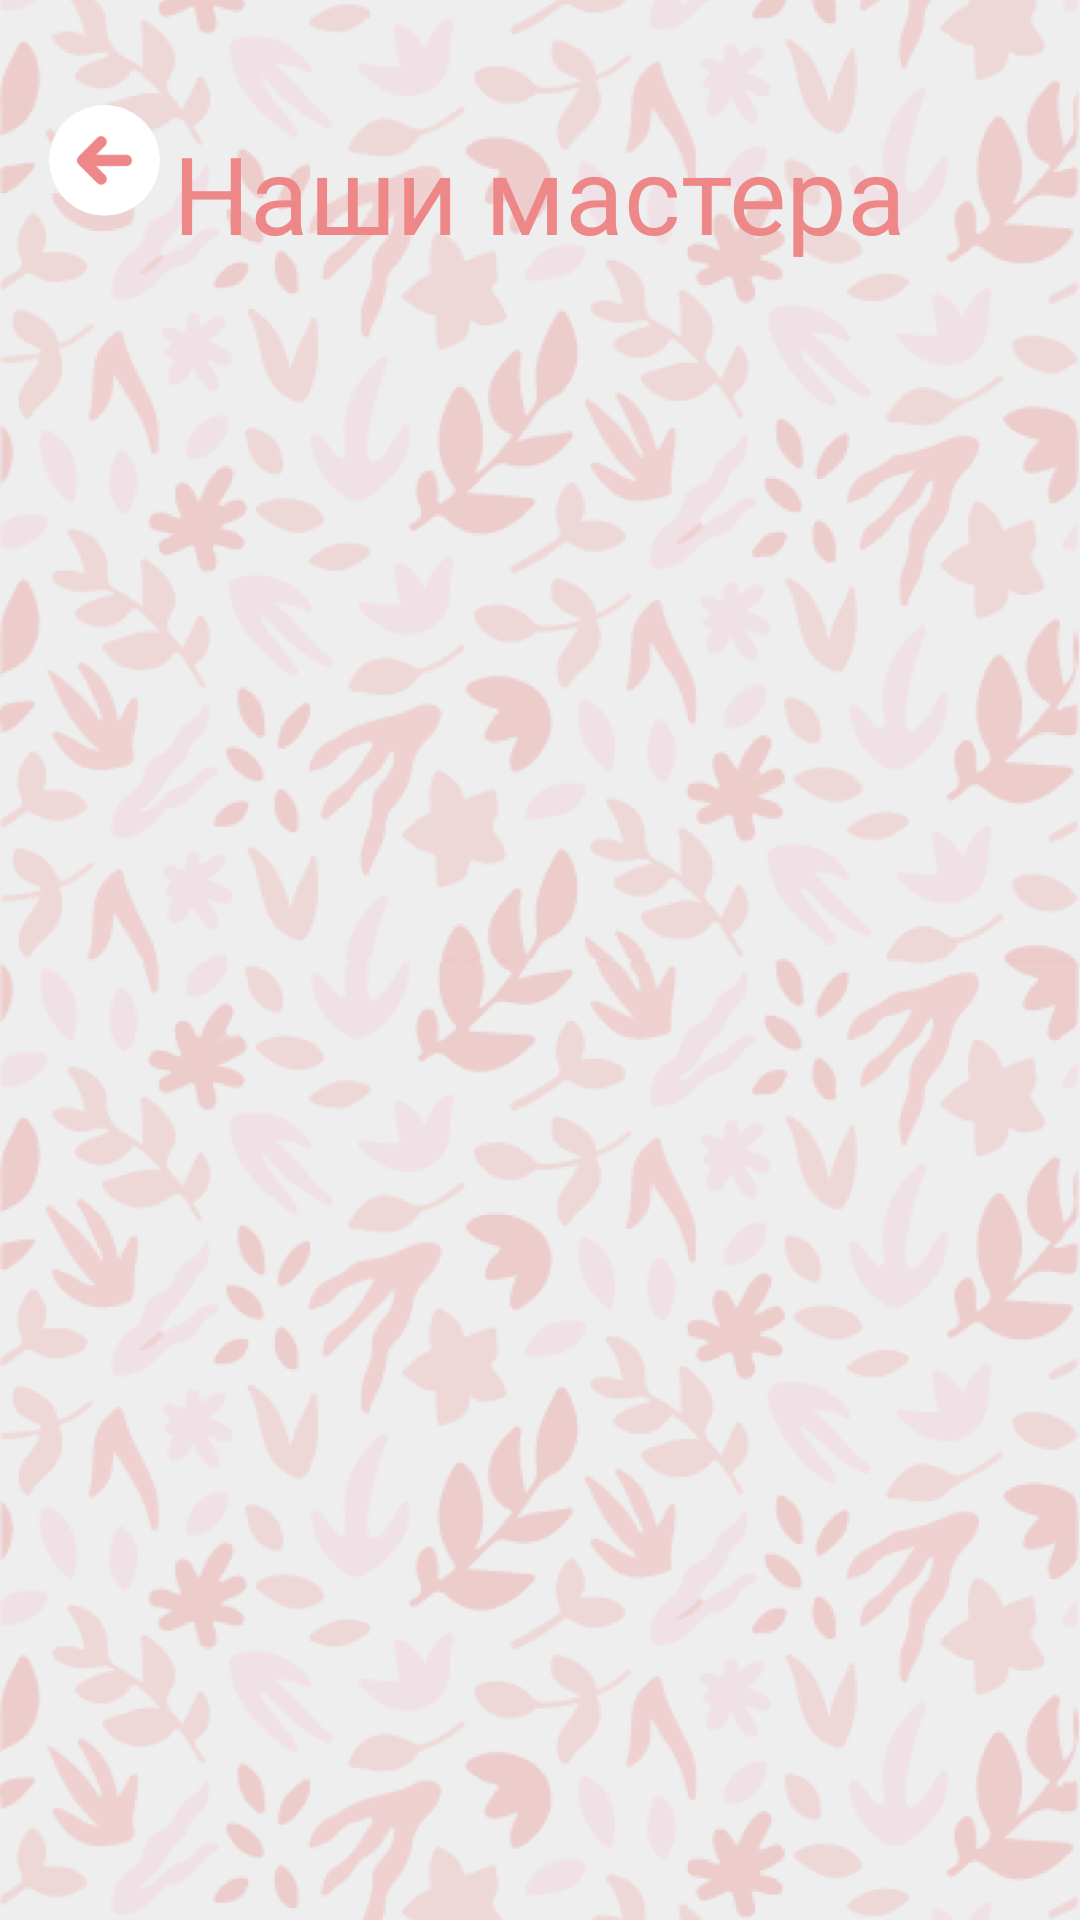

Icon bounding boxes for this 1080px×1920px phone screenshot, format (x1, y1, x2, y2):
back arrow: (49, 105, 160, 216)
